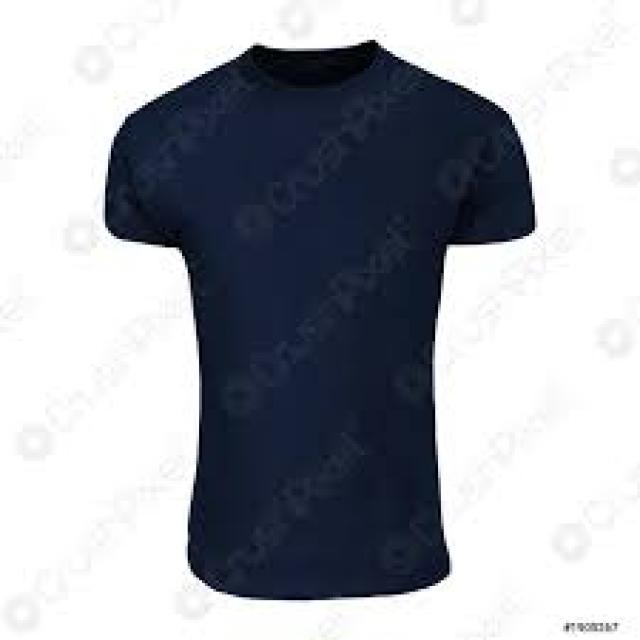Shirt: (78, 18, 551, 608)
